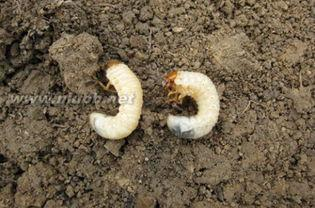grub: (163, 68, 222, 144)
